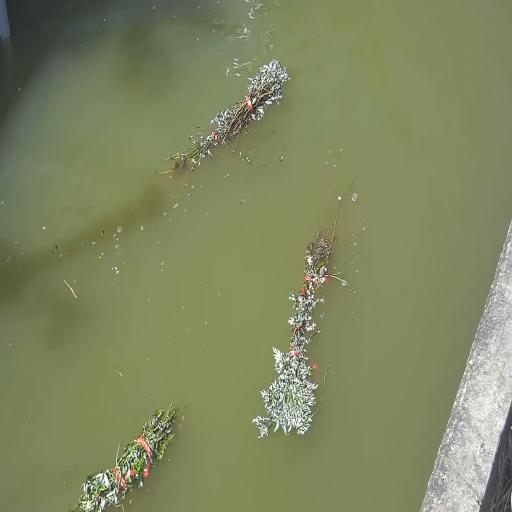twig: (251, 195, 348, 439), (155, 57, 292, 186), (68, 402, 180, 512)
